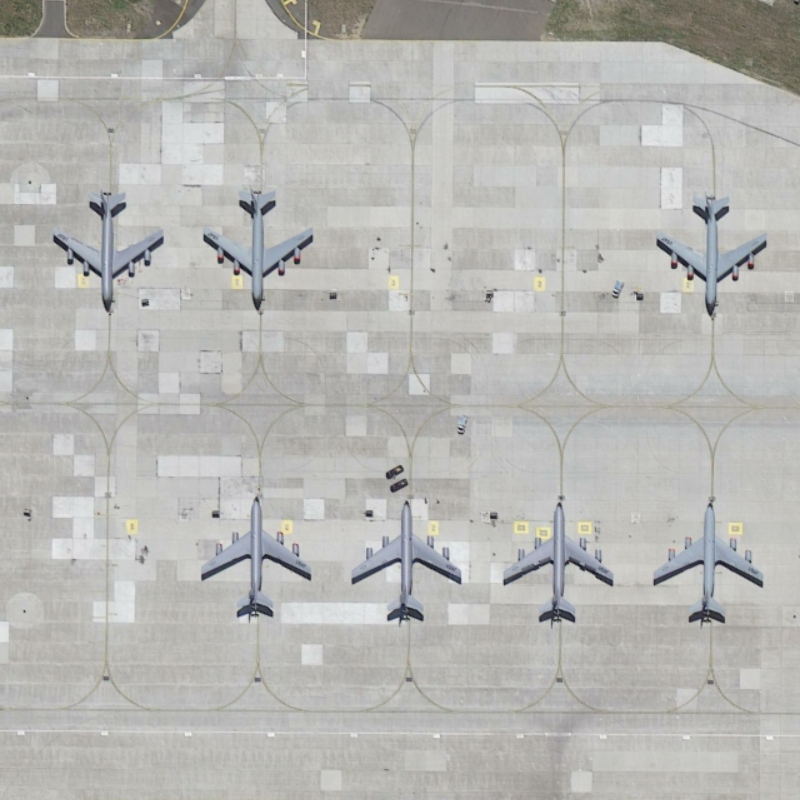A14: (46, 176, 181, 322), (346, 481, 471, 638), (649, 188, 783, 324), (200, 183, 326, 321), (499, 489, 619, 633), (649, 494, 771, 634), (192, 494, 321, 621)
